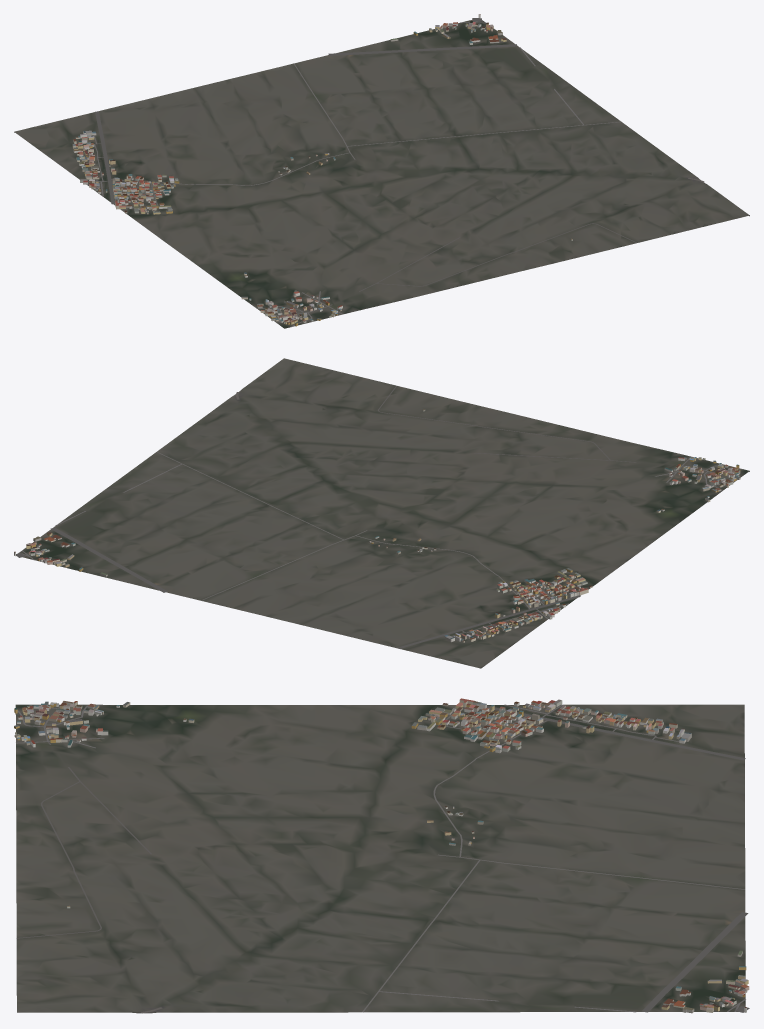
3 renders of one model, top to bottom at view 1: azimuth 30°, elevation 25°; view 2: azimuth 150°, elevation 25°; view 3: azimuth 270°, elevation 25°, orthographic. The views are drawn at different scales.
Visible parts, largest first — view 1: ground, buildings, roads; view 2: ground, buildings, roads; view 3: ground, buildings, roads.
Boxes of the visible parts, x1=… form: ground: x1=14, y1=20, x2=749, y2=328; buildings: x1=72, y1=14, x2=572, y2=326; roads: x1=88, y1=18, x2=637, y2=327; ground: x1=18, y1=358, x2=749, y2=668; buildings: x1=14, y1=409, x2=740, y2=642; roads: x1=16, y1=385, x2=743, y2=648; ground: x1=15, y1=704, x2=745, y2=1013; buildings: x1=14, y1=698, x2=749, y2=1013; roads: x1=16, y1=704, x2=749, y2=1012.
Size of the model in its own units: 1411 by 15.48 by 1416.
